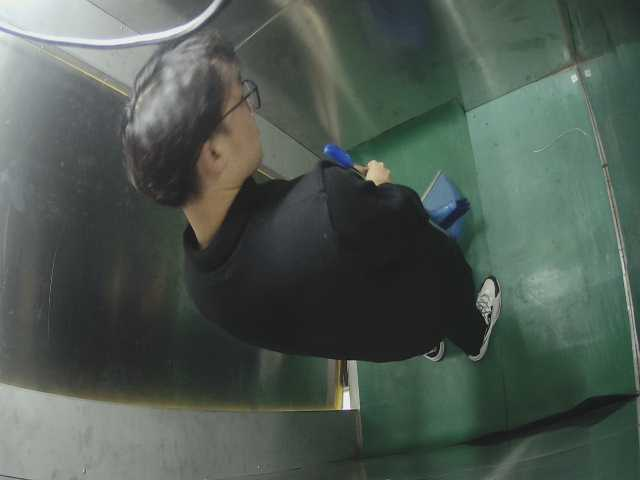person: (118, 29, 528, 379)
